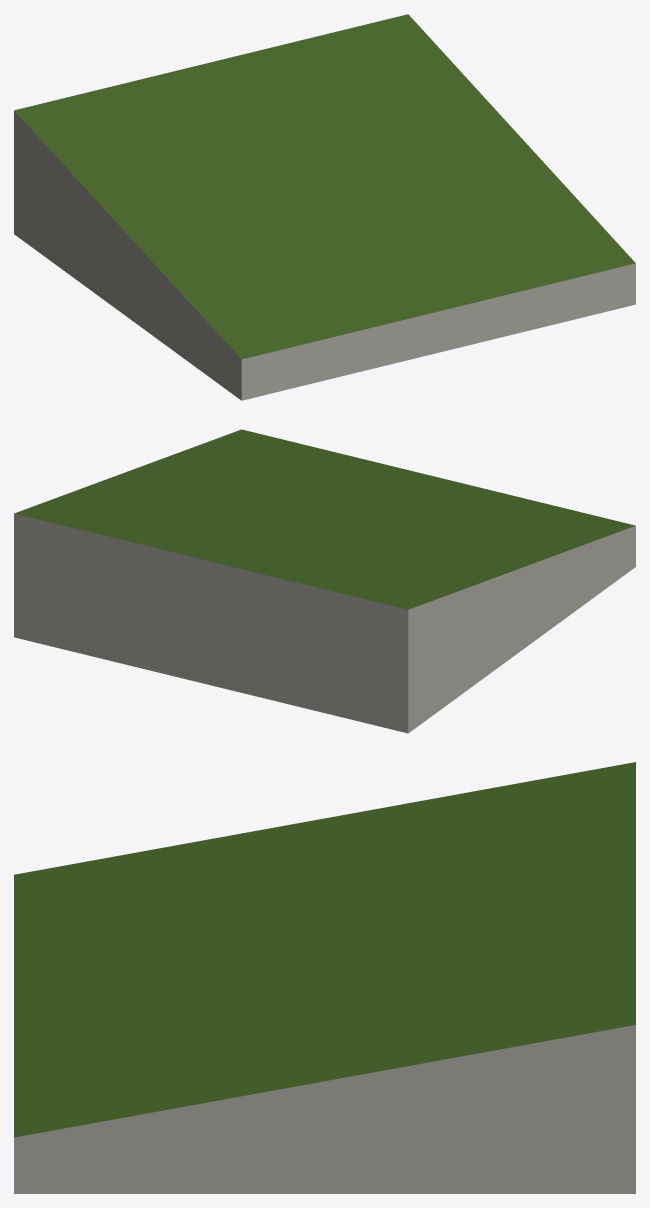
File: Terrain_Modular_Tiles_Grass_Rock_Ramp_Large_01.fbx
3 views of the same model, one above another, from view 1: azimuth 30°, elevation 25°; view 2: azimuth 150°, elevation 25°; view 3: azimuth 270°, elevation 25° (orthographic). The views are drawn at different scales.
Parts seen in each view (by area): view 1: Terrain_Modular_Tiles_Grass_Rock_Ramp_Large_01; view 2: Terrain_Modular_Tiles_Grass_Rock_Ramp_Large_01; view 3: Terrain_Modular_Tiles_Grass_Rock_Ramp_Large_01.
Part boxes in pixels (<box>): Terrain_Modular_Tiles_Grass_Rock_Ramp_Large_01: <box>14,14,635,400</box>; Terrain_Modular_Tiles_Grass_Rock_Ramp_Large_01: <box>14,429,635,733</box>; Terrain_Modular_Tiles_Grass_Rock_Ramp_Large_01: <box>14,762,635,1193</box>.
Size of the model in its own units: 3000 by 900 by 3000.
